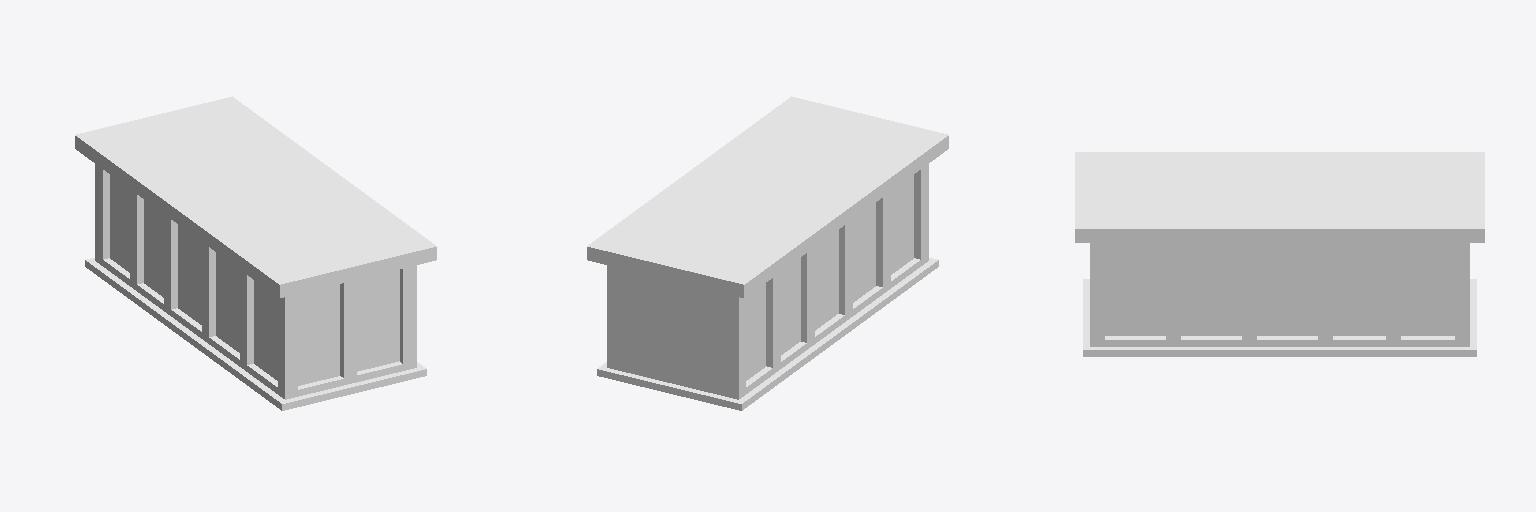
The model's file is lada.obj.
3 renders of one model, left to right at view 1: azimuth 30°, elevation 25°; view 2: azimuth 150°, elevation 25°; view 3: azimuth 270°, elevation 25°, orthographic.
Visible parts, largest first — view 1: object 1; view 2: object 1; view 3: object 1.
Boxes of the visible parts, x1=… form: object 1: x1=75, y1=96, x2=436, y2=410; object 1: x1=587, y1=96, x2=948, y2=410; object 1: x1=1075, y1=152, x2=1484, y2=356.
Bounding box in the file's own units: 2.4 × 1.9 × 5.4.